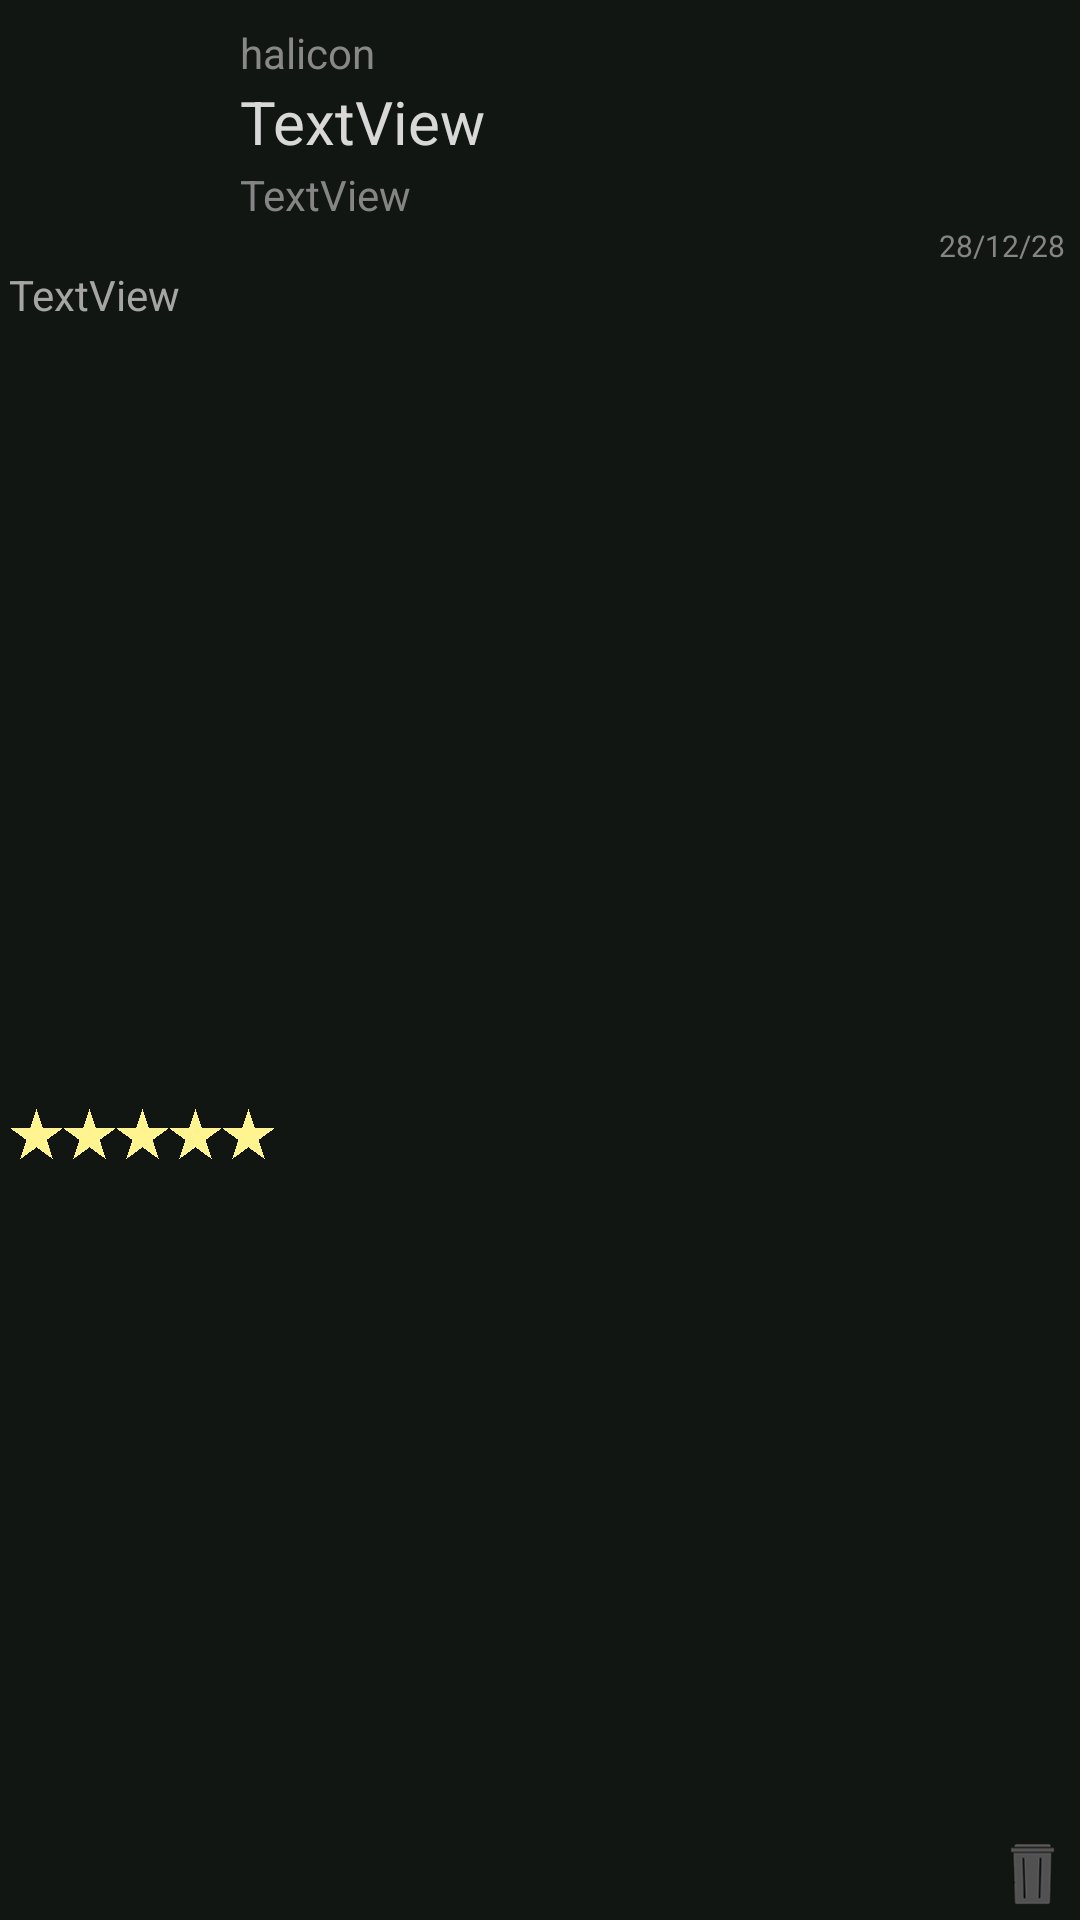

Icon bounding boxes for this 1080w x 1920h phone screenshot, format (x1, y1, x2, y2):
delete: (1011, 1844, 1054, 1904)
fivestar: (11, 1109, 274, 1159)
